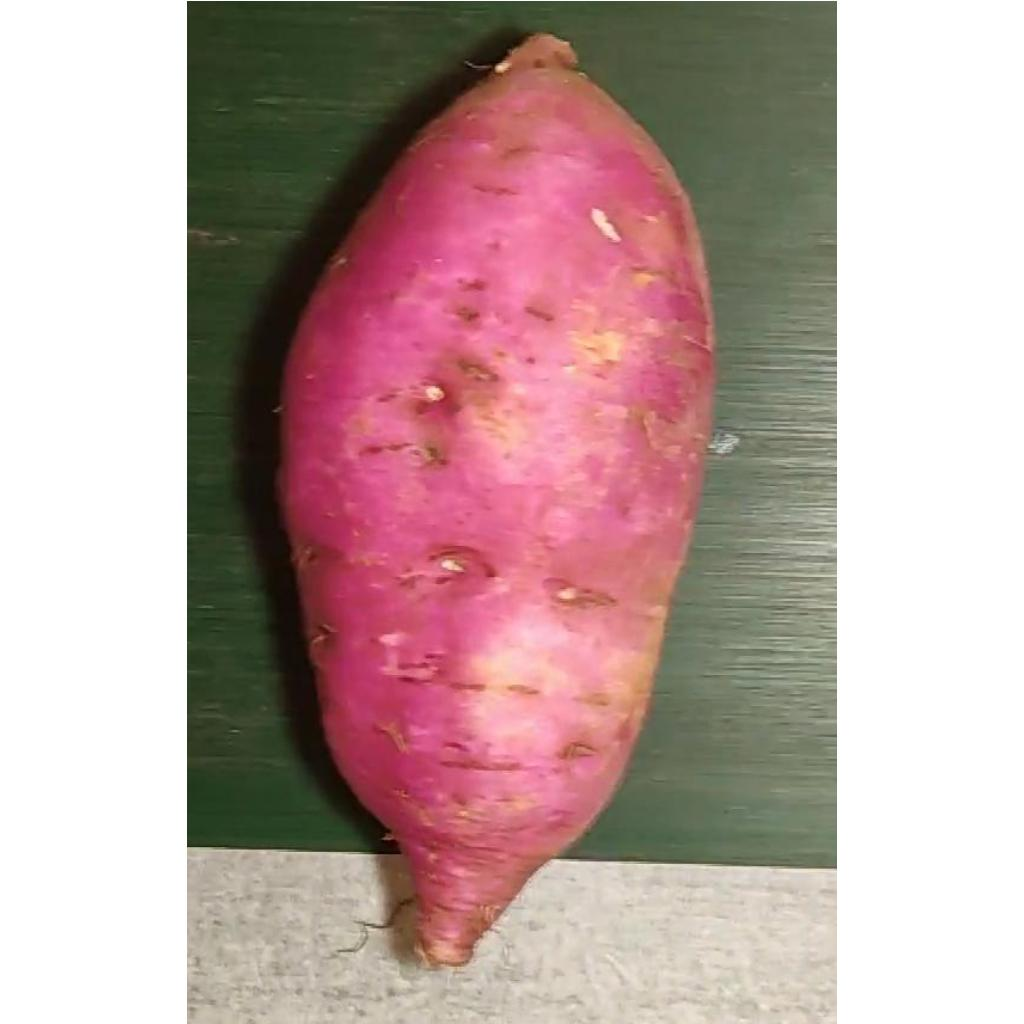Sweet Potato: (283, 33, 716, 973)
